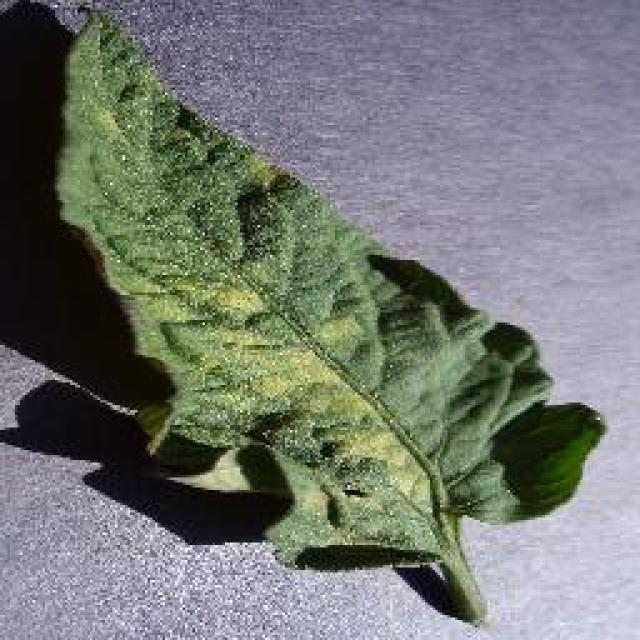Tomato mold leaf: (54, 0, 610, 573)
